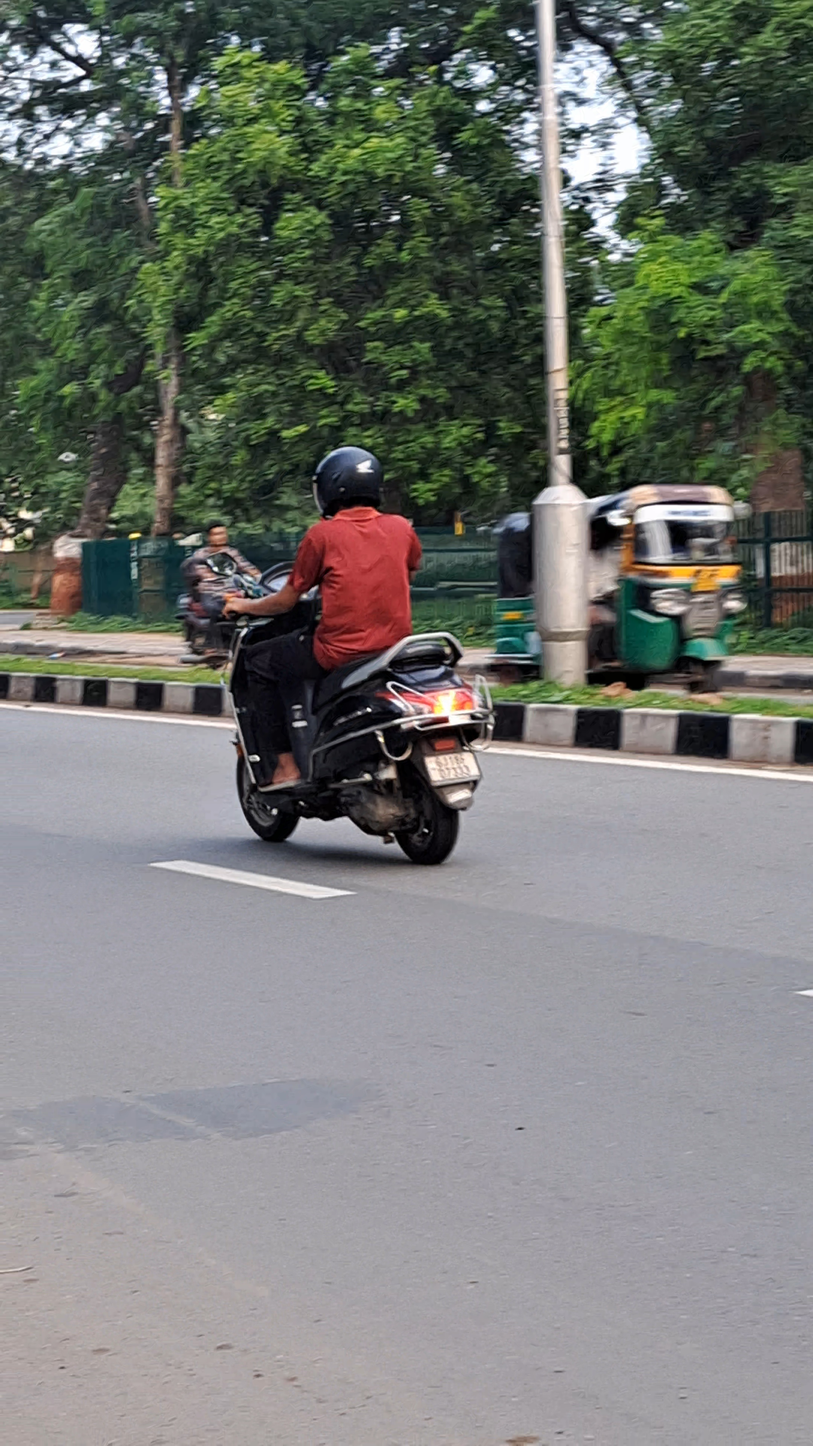BikeWithRider: (207, 435, 507, 876)
Helmet: (300, 437, 395, 526)
